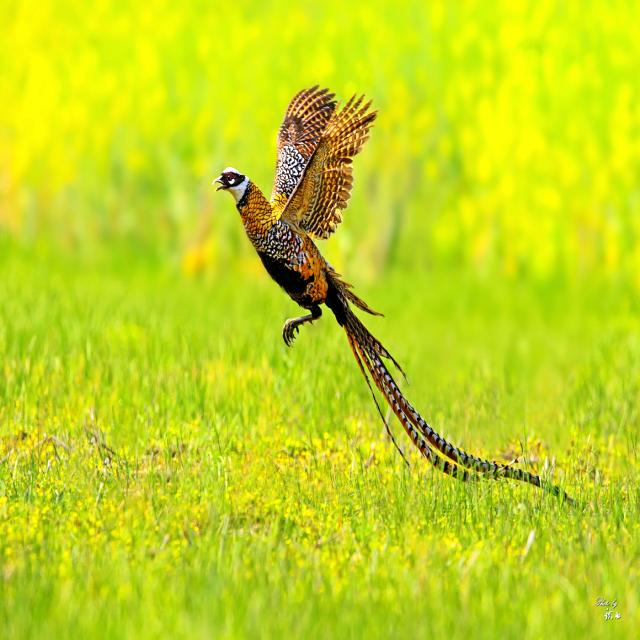Reeves-s Pheasant: (325, 271, 543, 485)
